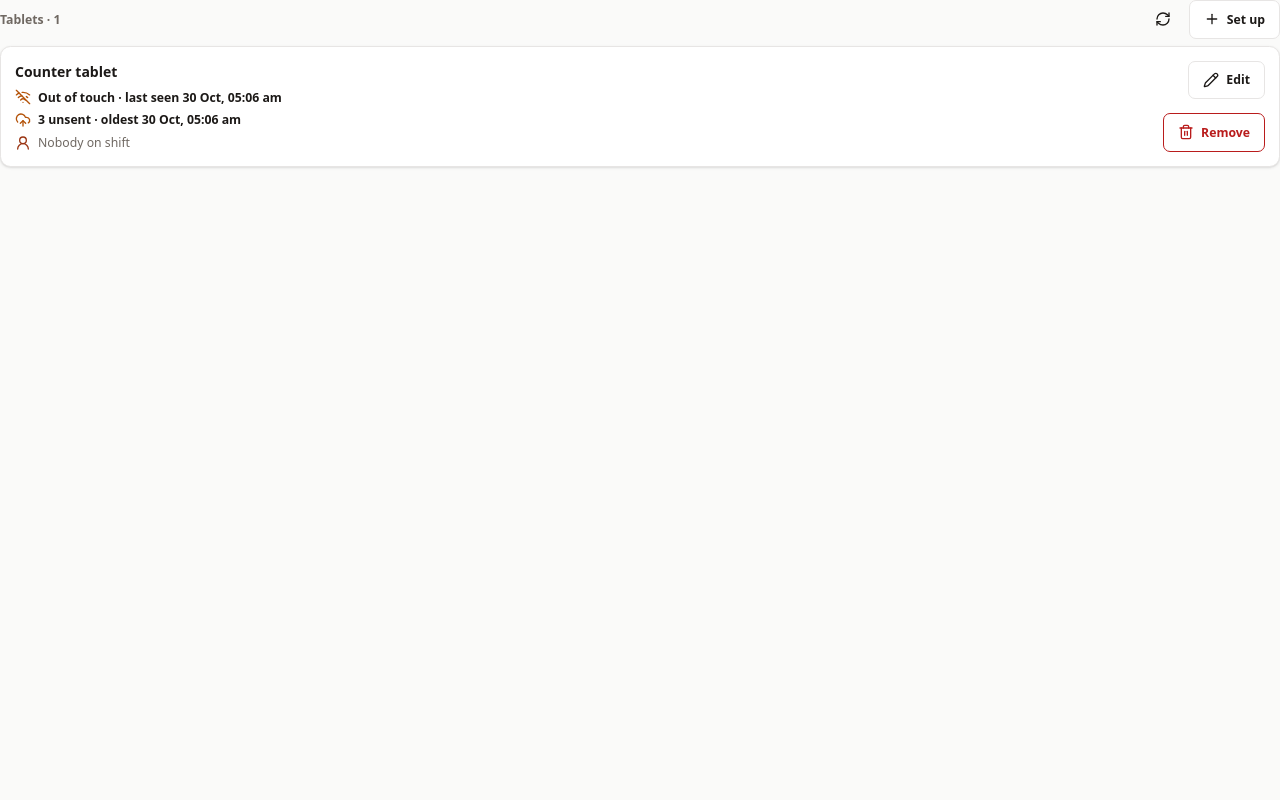
Test: an outlet’s tablets › names what would be left unsent before it removes a tablet
This screenshot has width=1280, height=800.
What coordinates should you click on to do the following:
click the button with aria-label "Remove Counter tablet"
I would click on:
 (1214, 132)
Its box is [1163,113,1265,152].
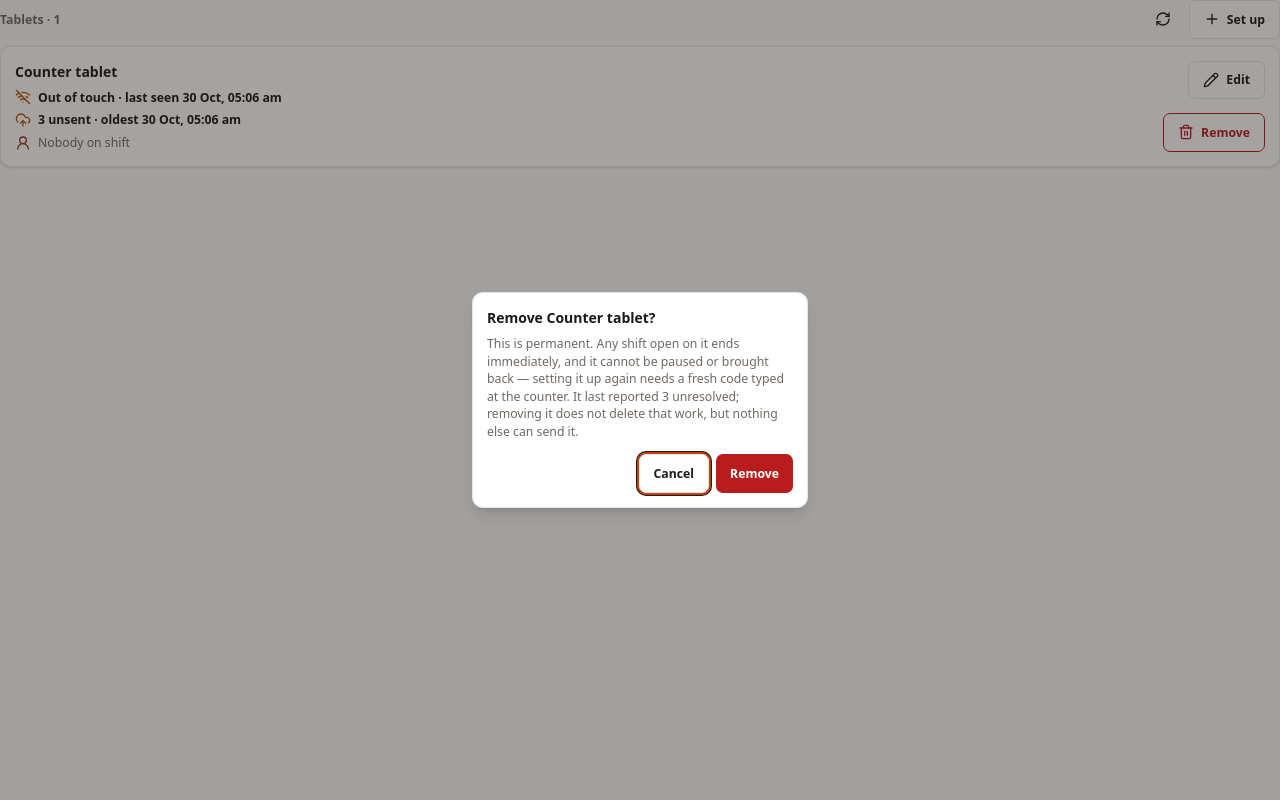
Result: the text "This is permanent" shows "3 unresolved" at [487,335,784,440]
Result: the text "This is permanent" shows "nothing else can send it" at [487,335,784,440]
